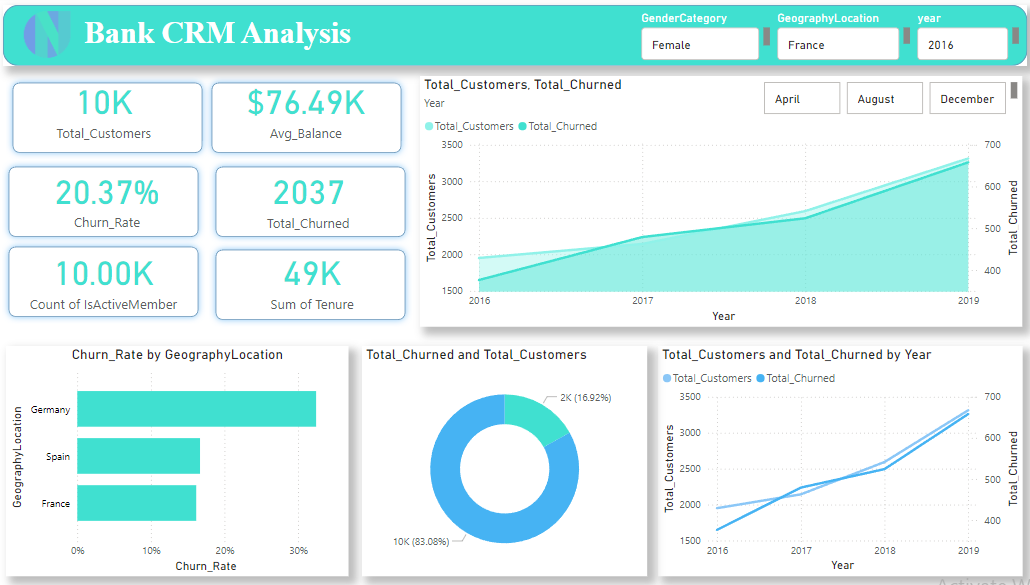

This screenshot's page, from the dashboard's own definition file:
{"tool":"powerbi","page":{"name":"Executive Overview","canvas":[1280,720],"ordinal":0},"visuals":[{"type":"shape","box":[13.8,199.6,247.7,101.8],"z":0},{"type":"shape","box":[265.6,199.6,247.7,101.8],"z":1000},{"type":"shape","box":[261.5,97.7,247.7,101.8],"z":2000},{"type":"shape","box":[14.3,11.4,1250,74.3],"z":3000},{"type":"shape","box":[17.9,97.7,247.7,101.8],"z":4000},{"type":"advancedSlicerVisual","fields":{"Values":["analytics calendar_dim.year"]},"box":[1125.8,17.9,132.1,60.6],"z":5000},{"type":"advancedSlicerVisual","fields":{"Values":["analytics customer_dim.GeographyLocation"]},"box":[955.2,17.9,170.7,60.6],"z":6000},{"type":"advancedSlicerVisual","fields":{"Values":["analytics customer_dim.GenderCategory"]},"box":[790,17.9,165.2,60.6],"z":7000},{"type":"card","fields":{"Values":["Calculation.Total_Customers"]},"box":[53.7,85.3,167.9,101.8],"z":8000},{"type":"card","fields":{"Values":["Calculation.Total_Churned"]},"box":[308.3,194.1,156.9,103.2],"z":9000},{"type":"card","fields":{"Values":["Calculation.Churn_Rate"]},"box":[49.5,196.8,183.1,97.7],"z":10000},{"type":"card","fields":{"Values":["Calculation.Avg_Balance"]},"box":[294.5,89.5,180.3,93.6],"z":11000},{"type":"areaChart","title":"Total_Customers, Total_Churned","fields":{"Category":["analytics calendar_dim.date.Variation.Date Hierarchy.Year","analytics calendar_dim.date.Variation.Date Hierarchy.Month"],"Y":["Calculation.Total_Customers"],"Y2":["Calculation.Total_Churned"]},"box":[523,97.7,735,305.5],"z":12000},{"type":"clusteredBarChart","fields":{"Category":["analytics customer_dim.GeographyLocation"],"Y":["Calculation.Churn_Rate"]},"box":[17.9,426.7,418.4,280.8],"z":13000},{"type":"textbox","box":[108.7,17.9,344.1,60.6],"z":14000},{"type":"lineChart","fields":{"Category":["analytics calendar_dim.date.Variation.Date Hierarchy.Year","analytics calendar_dim.date.Variation.Date Hierarchy.Quarter","analytics calendar_dim.date.Variation.Date Hierarchy.Month"],"Y":["Calculation.Total_Customers"],"Y2":["Calculation.Total_Churned"]},"box":[813.4,426.7,444.6,280.8],"z":15000},{"type":"shape","box":[13.8,297.3,247.7,101.8],"z":16000},{"type":"shape","box":[265.6,301.4,247.7,101.8],"z":17000},{"type":"image","box":[0,13.8,137.6,67.4],"z":18000},{"type":"advancedSlicerVisual","fields":{"Values":["analytics calendar_dim.monthname"]},"box":[938.7,100.5,319.3,49.5],"z":19000},{"type":"card","fields":{"Values":["CountNonNull(analytics account_fact.IsActiveMember)"]},"box":[35.8,294.5,203.7,101.8],"z":20000},{"type":"card","fields":{"Values":["Sum(analytics account_fact.Tenure)"]},"box":[308.3,301.4,166.5,86.7],"z":21000},{"type":"donutChart","fields":{"Y":["Calculation.Total_Churned","Calculation.Total_Customers"]},"box":[452.8,426.7,348.2,280.8],"z":22000}]}

Visuals, with their boxes in screenshot pixels (x1, y1, x2, y2), scaled from the page's 1280x720 canvas onto the 1030x585 screenshot:
shape: select_region(11, 162, 210, 245)
shape: select_region(214, 162, 413, 245)
shape: select_region(210, 79, 410, 162)
shape: select_region(12, 9, 1017, 70)
shape: select_region(14, 79, 214, 162)
advancedSlicerVisual - analytics calendar_dim.year: select_region(906, 15, 1012, 64)
advancedSlicerVisual - analytics customer_dim.GeographyLocation: select_region(769, 15, 906, 64)
advancedSlicerVisual - analytics customer_dim.GenderCategory: select_region(636, 15, 769, 64)
card - Calculation.Total_Customers: select_region(43, 69, 178, 152)
card - Calculation.Total_Churned: select_region(248, 158, 374, 242)
card - Calculation.Churn_Rate: select_region(40, 160, 187, 239)
card - Calculation.Avg_Balance: select_region(237, 73, 382, 149)
"Total_Customers, Total_Churned" areaChart: select_region(421, 79, 1012, 328)
clusteredBarChart - analytics customer_dim.GeographyLocation x Calculation.Churn_Rate: select_region(14, 347, 351, 575)
textbox: select_region(87, 15, 364, 64)
lineChart - analytics calendar_dim.date.Variation.Date Hierarchy.Year x analytics calendar_dim.date.Variation.Date Hierarchy.Quarter: select_region(655, 347, 1012, 575)
shape: select_region(11, 242, 210, 324)
shape: select_region(214, 245, 413, 328)
image: select_region(0, 11, 111, 66)
advancedSlicerVisual - analytics calendar_dim.monthname: select_region(755, 82, 1012, 122)
card - CountNonNull(analytics account_fact.IsActiveMember): select_region(29, 239, 193, 322)
card - Sum(analytics account_fact.Tenure): select_region(248, 245, 382, 315)
donutChart - Calculation.Total_Churned x Calculation.Total_Customers: select_region(364, 347, 645, 575)
